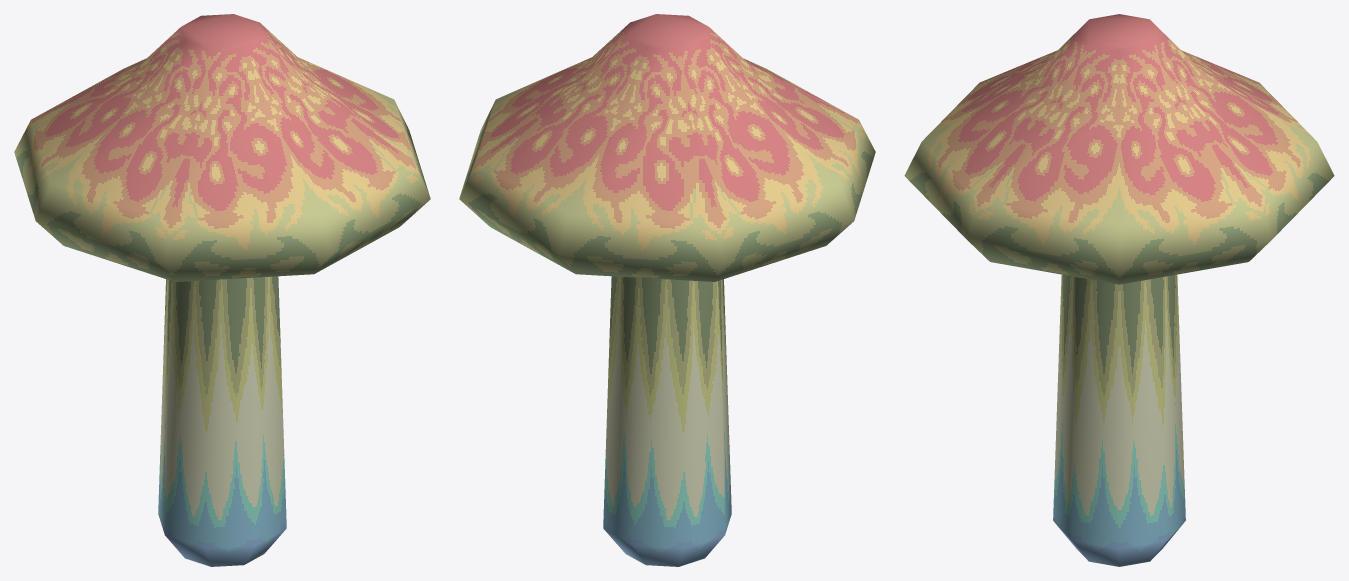
File: 02d4_Mushroom_XXXL.glb
3 renders of one model, left to right at view 1: azimuth 30°, elevation 25°; view 2: azimuth 150°, elevation 25°; view 3: azimuth 270°, elevation 25°, orthographic.
Visible parts, largest first — view 1: part_0; view 2: part_0; view 3: part_0.
Boxes of the visible parts, bbox=[...] form: part_0: bbox=[14, 14, 430, 566]; part_0: bbox=[459, 14, 875, 566]; part_0: bbox=[904, 14, 1334, 566].
Bounding box in the file's own units: 157 × 208 × 157.
1 material, 1 textured.
